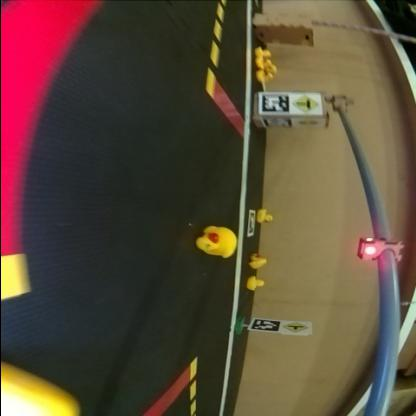Duckie: (196, 226, 234, 258), (246, 277, 264, 292), (250, 254, 266, 270), (256, 211, 272, 223), (256, 60, 270, 68)
Intersection sign: (295, 94, 319, 115), (282, 322, 309, 333)
QR code: (260, 94, 291, 113), (250, 320, 280, 332), (264, 119, 292, 129), (248, 212, 256, 238)
Traffic light: (357, 238, 402, 262)
